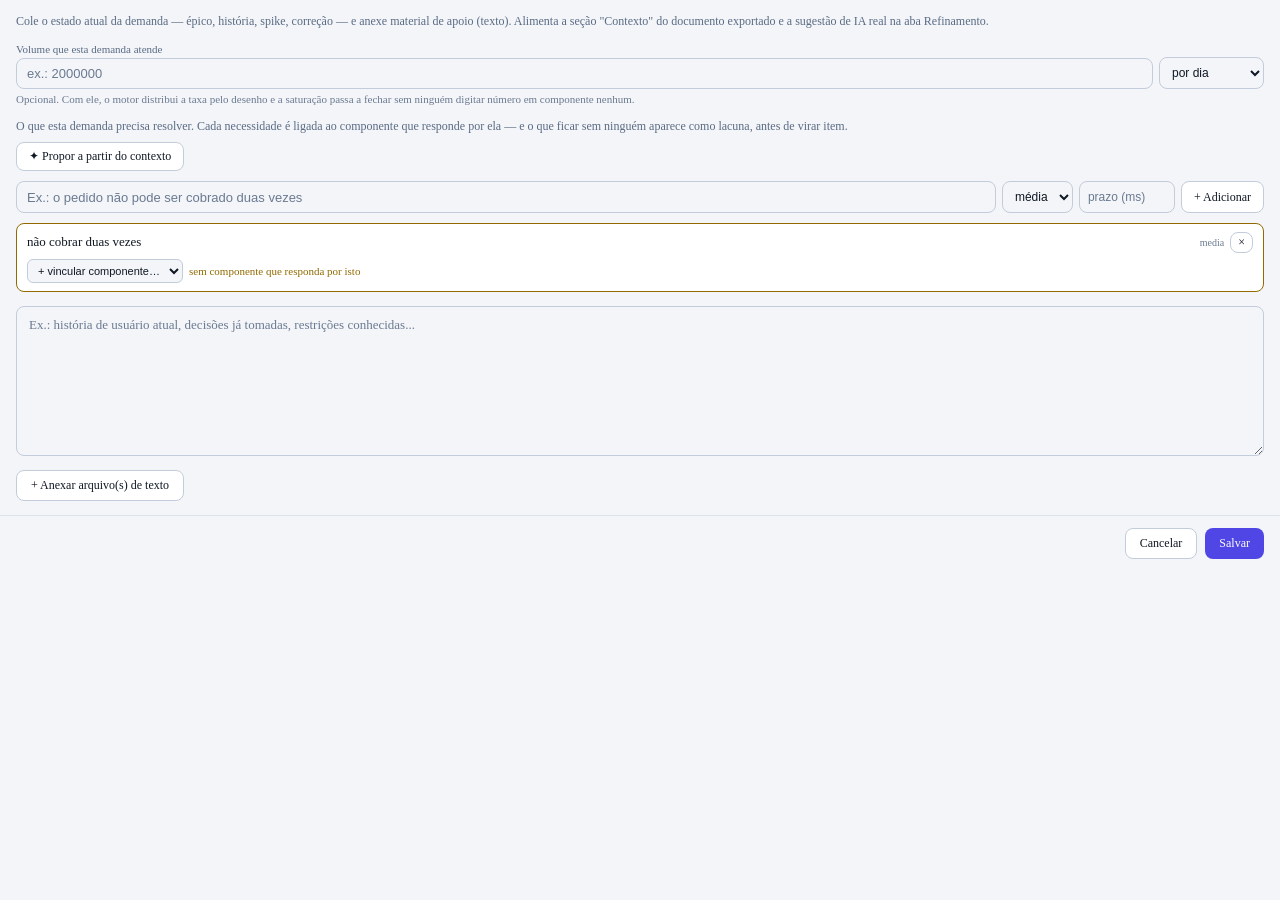
Scenario: ContextoEpicoPanel — a proposta do agente (SPEC-57 fatia D) › manda as já declaradas e adiciona o que voltou, sem confirmar nada
Click the button "✦ Propor a partir do contexto" at (100, 156), box [16,142,184,171]
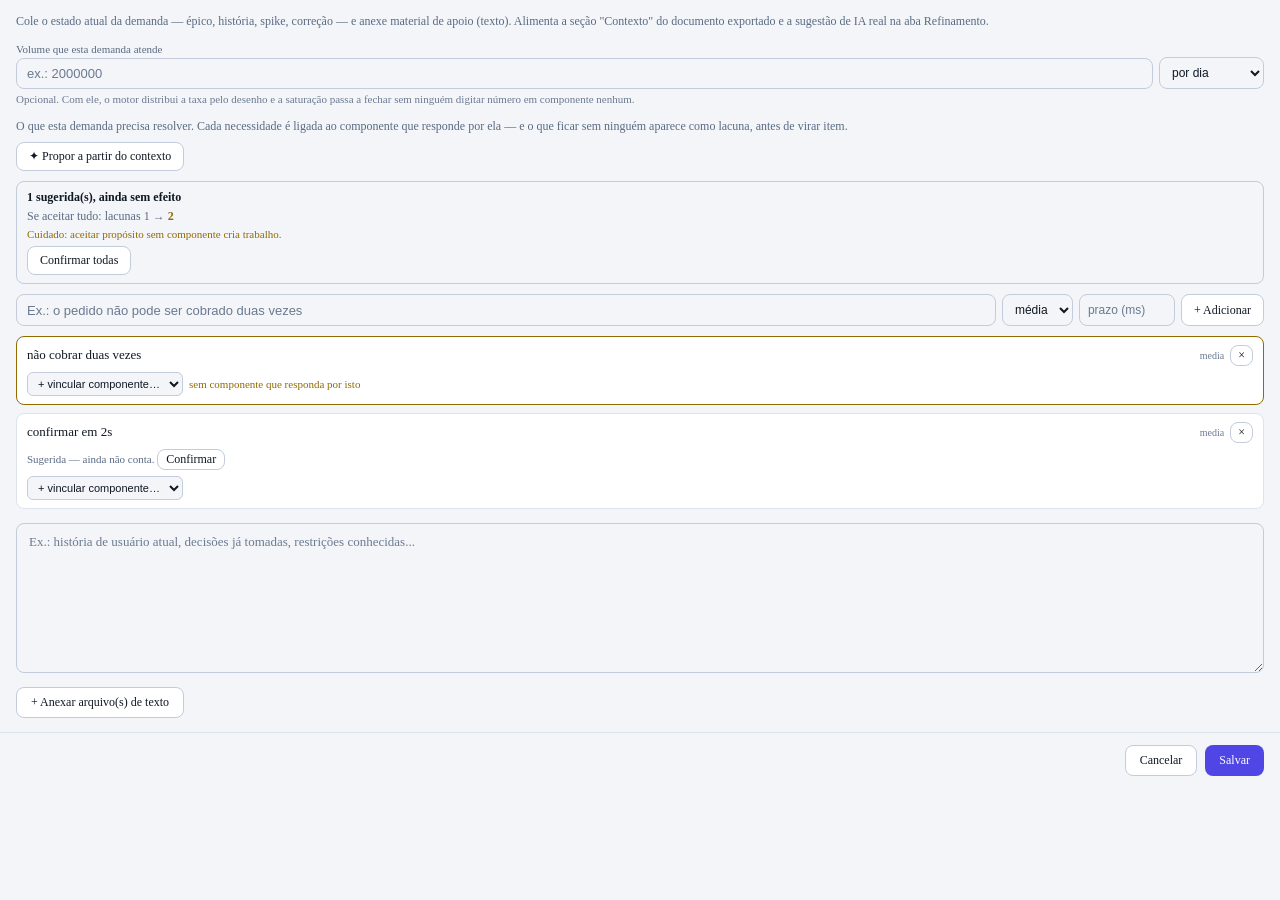
Check: the text "confirmar em 2s" is shown, box [27,424,112,439]
Check: the element with test id "delta-da-proposta" shows "1 sugerida(s)", box [27,190,181,204]
